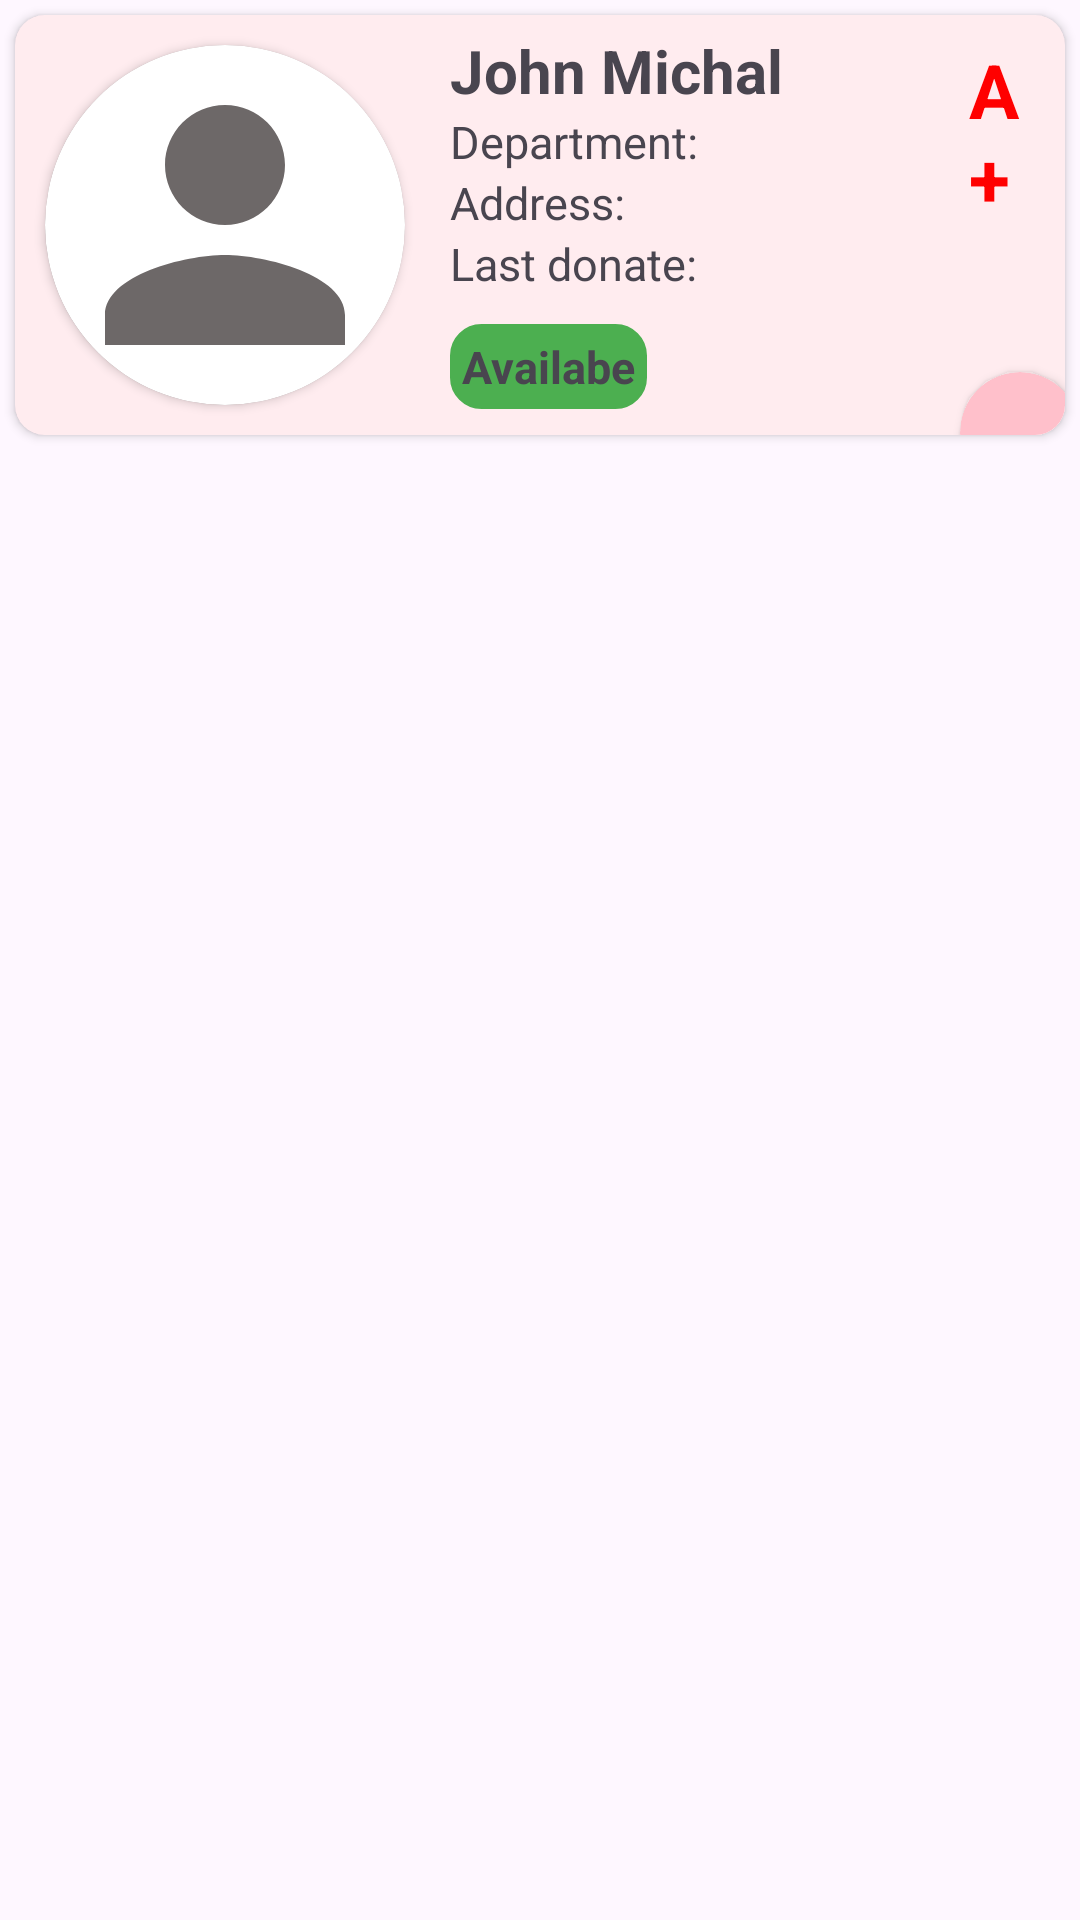

Icon click points for this 1080x1920 phone screenshot, format [x,y]:
person: [225,225]
